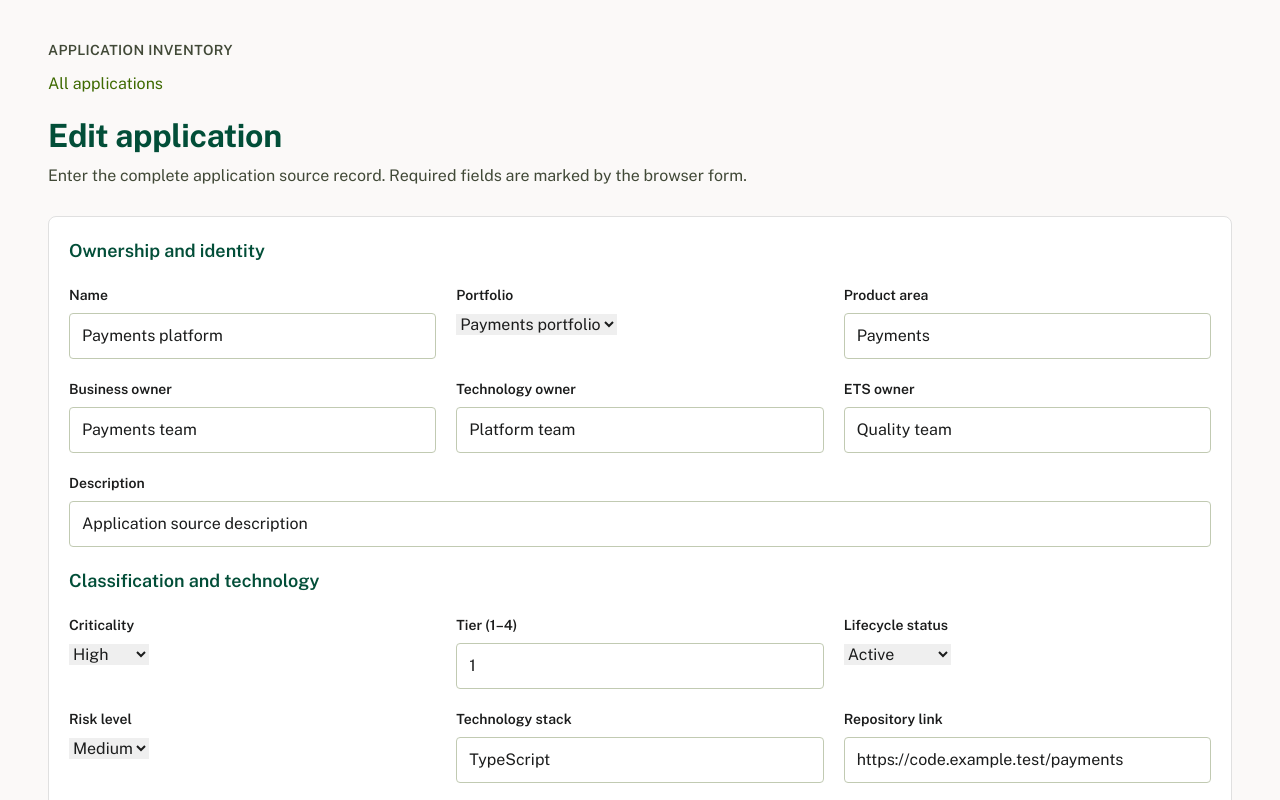
it: ApplicationFormPage › prepopulates edit fields, updates the record, and navigates to its detail page
Expected: the dropdown labelled "Portfolio" shows "Payments portfolio", [456,314,617,335]
Expected: the field labelled "Technology stack" holds "TypeScript", [456,737,824,783]
Replace the text in the field labelled "Name" with "Updated payments platform": (253, 336) [69,313,436,359]
(page scrolled)
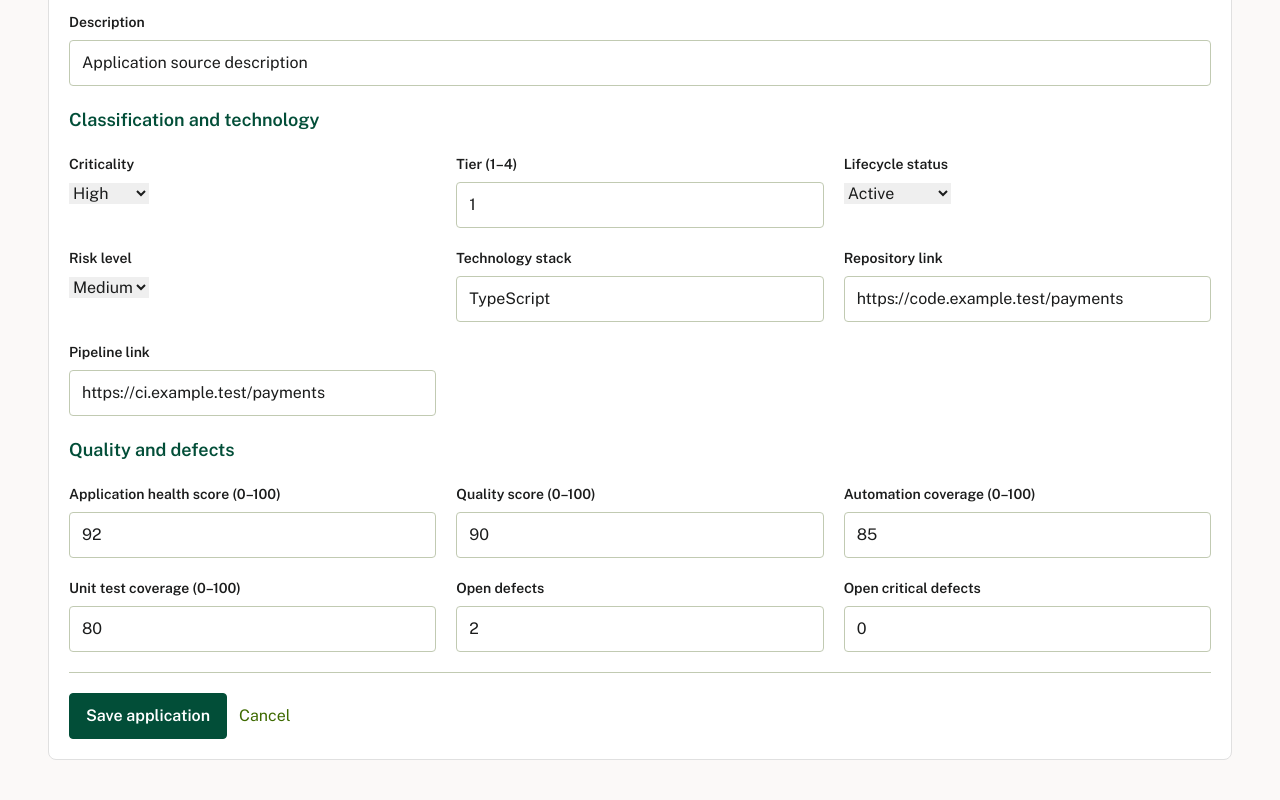
Click the button "Save application": (148, 716) [69,693,227,739]
(page scrolled)
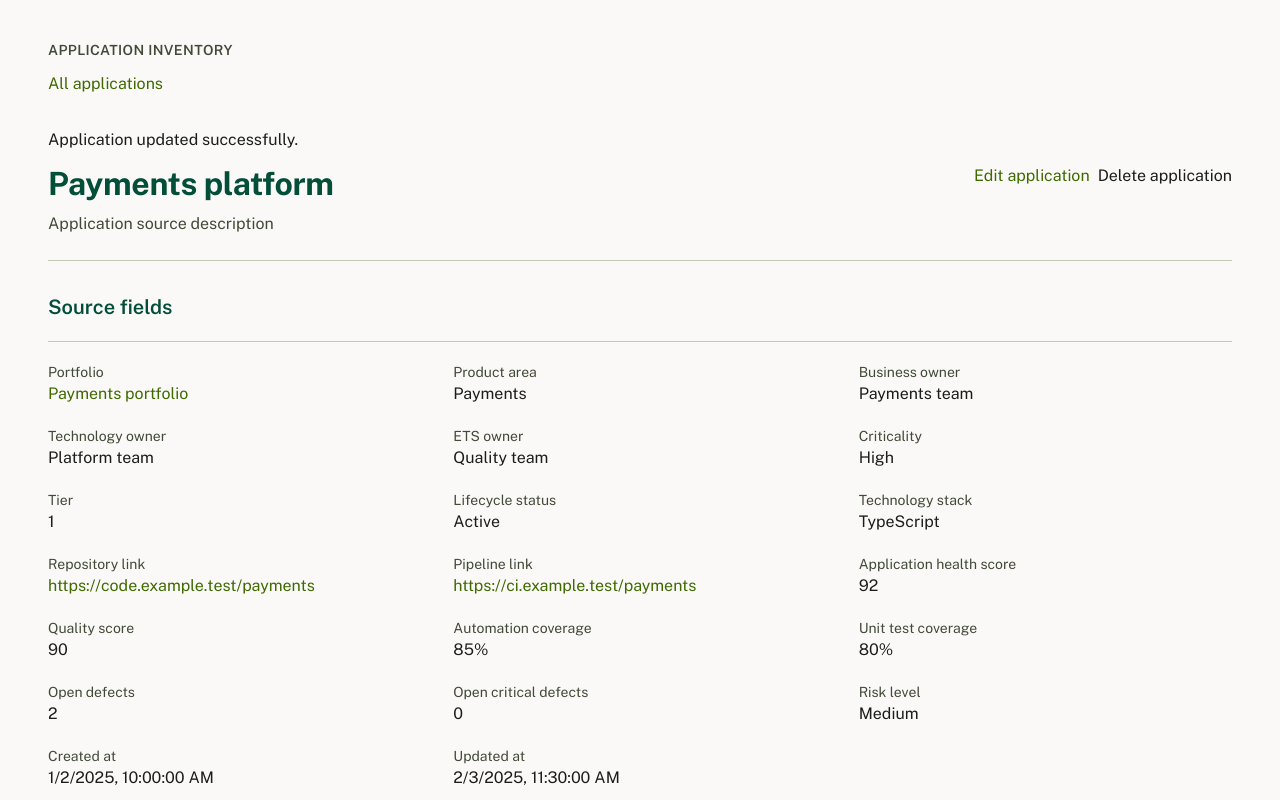
Expected: the heading "Payments platform" is shown, [48,164,334,204]
Expected: the message reads "Application updated successfully.", [48,130,298,149]
